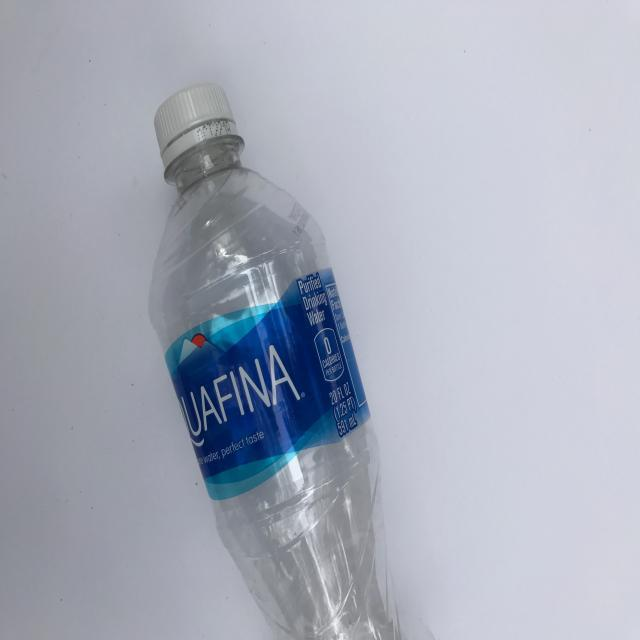plastic: (144, 73, 420, 640)
